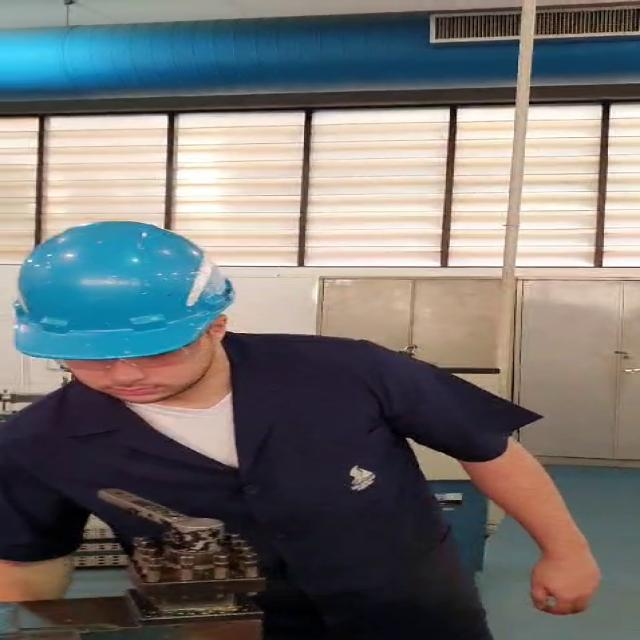oculos-epi: (50, 342, 201, 371)
